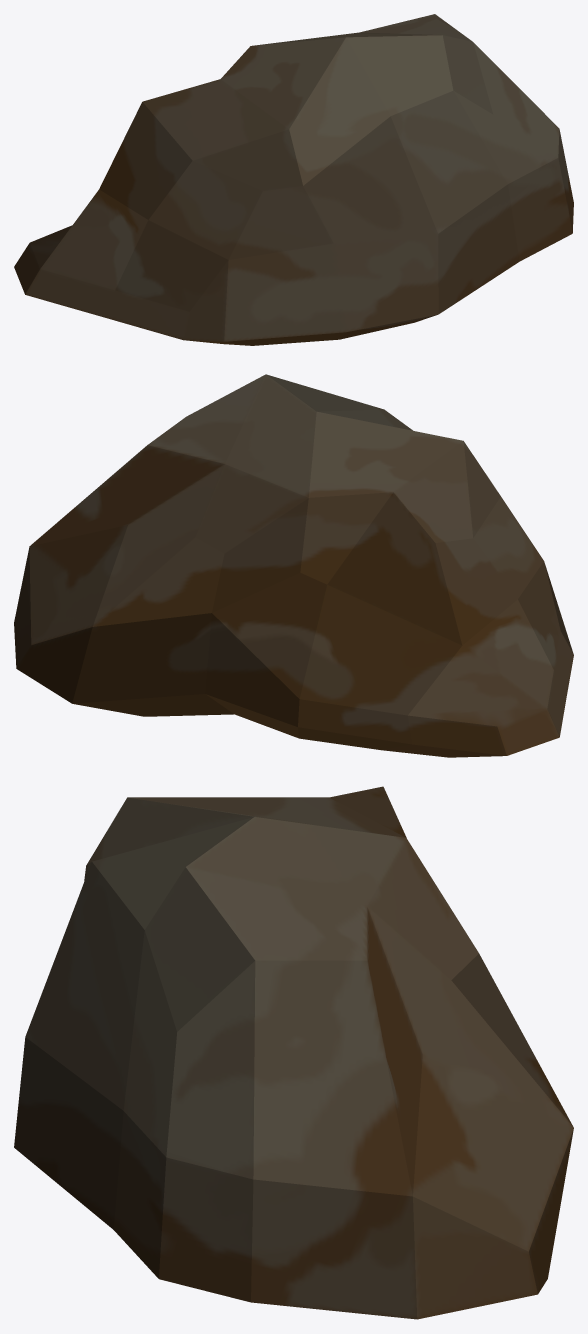
The model's file is Rock05_Model.fbx.
3 renders of one model, top to bottom at view 1: azimuth 30°, elevation 25°; view 2: azimuth 150°, elevation 25°; view 3: azimuth 270°, elevation 25°, orthographic. The views are drawn at different scales.
Visible parts, largest first — view 1: pPlane3; view 2: pPlane3; view 3: pPlane3.
Boxes of the visible parts, bbox=[...] form: pPlane3: bbox=[14, 14, 573, 345]; pPlane3: bbox=[14, 374, 573, 757]; pPlane3: bbox=[14, 786, 573, 1319].
Size of the model in its own units: 3.28 by 1.49 by 2.08.
